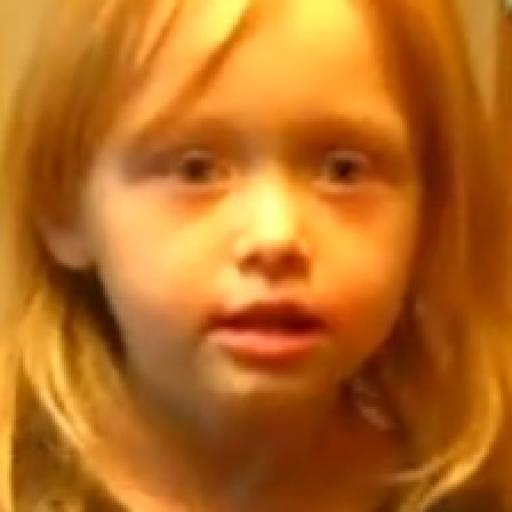Autism: (46, 0, 473, 453)
